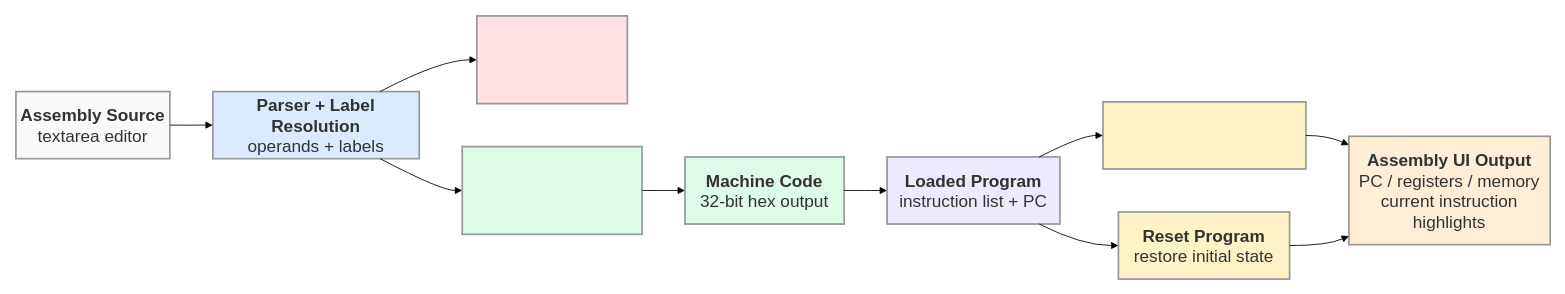
Image size: 1565x294. Some labels were removed from this diagram. The shapes that lost their labels are listed below. From the top down, each one's centre as x and y in pixels, then its label:
At pixel 552 59: "Parse Error Path line + message disable loading".
At pixel 1204 135: "Step Execution execute next instruction".
At pixel 551 190: "Decoded Program decoded instructions resolved labels".
